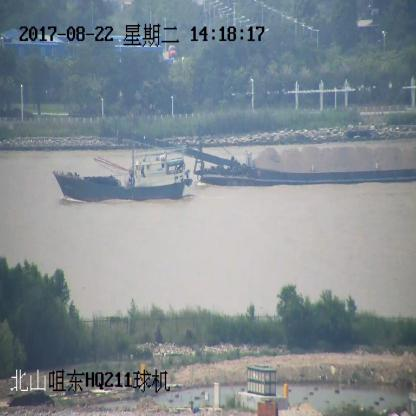Fishing Boat: (52, 115, 192, 201)
